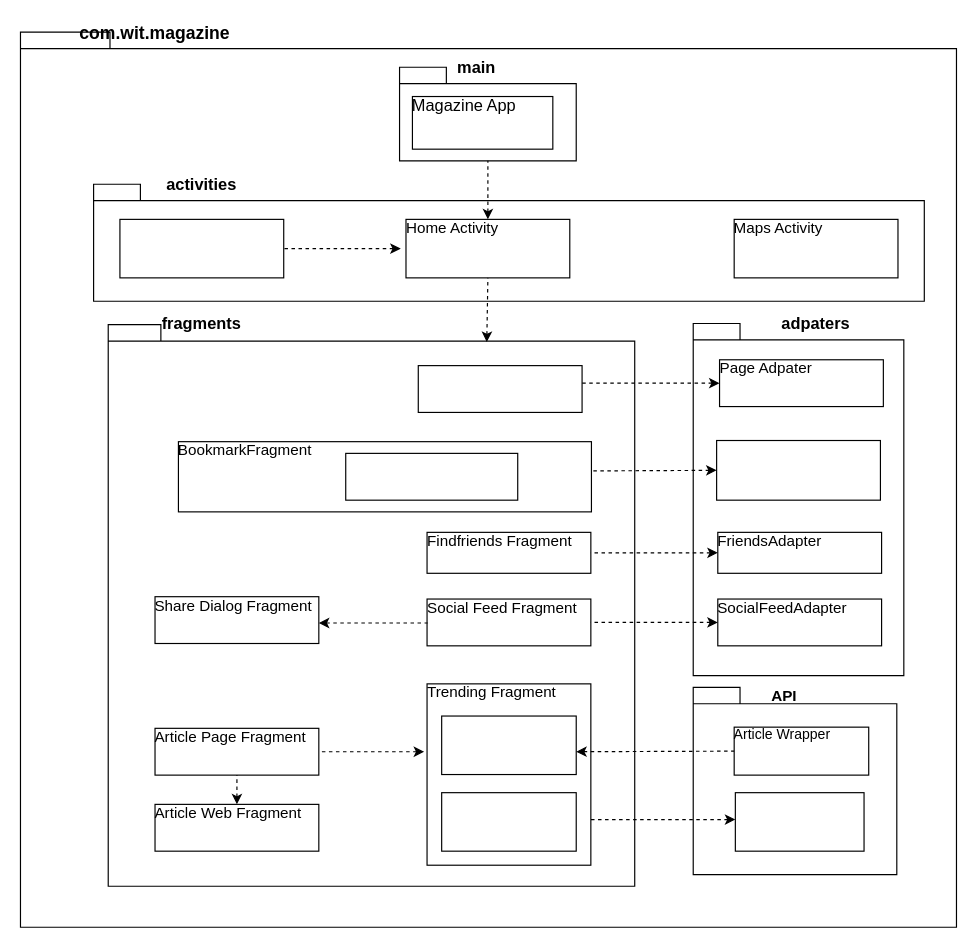
Some shapes in this 977 by 948 pixel diagram are drawn without their labels. The shapes that lost their labels are listed below. From the top down, each one's box as (x1, y1, x2, y2) in pixels, then its label:
(119, 218, 284, 278): Login Activity
(417, 364, 582, 412): Articles Fragment
(345, 452, 518, 500): Search Fragment
(715, 439, 880, 500): BookmarkListAdpater
(441, 715, 576, 775): Most Read Fragment
(441, 792, 576, 851): General Fragment
(734, 792, 864, 851): «interface» Article Service
